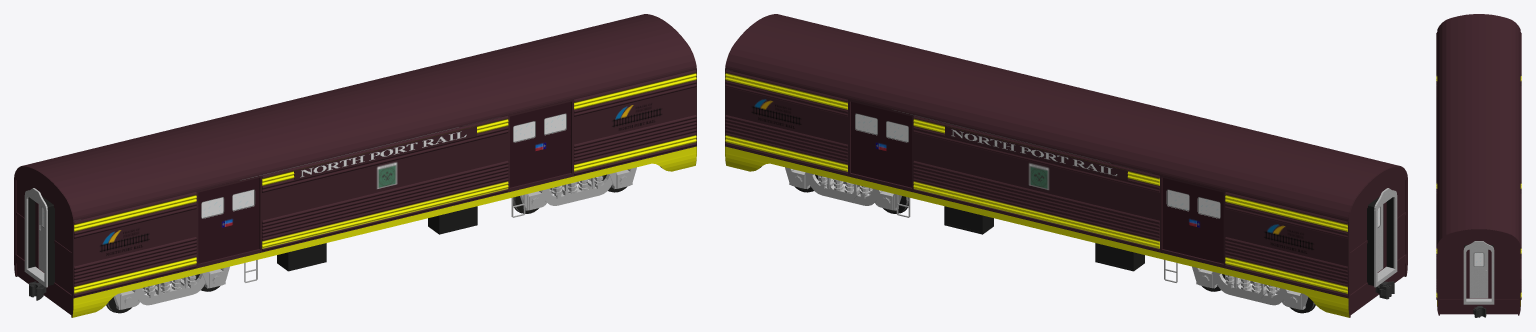
File: pullman_ss_baggage.obj
The picture shows the model from 3 angles, left to right: view 1: azimuth 30°, elevation 25°; view 2: azimuth 150°, elevation 25°; view 3: azimuth 270°, elevation 25°; orthographic projection. The views are drawn at different scales.
Visible parts, largest first — view 1: roof, fluting, FRAME_mainbody, obj1, FRAME, FRAME_frontandrear, Gangways, BOGEY_FRONT, BOGEY_REAR, FRAME_nameplate, obj2, glass; view 2: roof, fluting, FRAME_mainbody, obj1, FRAME, FRAME_frontandrear, Gangways, BOGEY_FRONT, BOGEY_REAR, FRAME_nameplate, obj2, glass; view 3: roof, FRAME_frontandrear, fluting, FRAME, FRAME_gangwaydoors, Gangways, couplers, glass.
Boxes of the visible parts, x1=… form: roof: x1=22, y1=14, x2=696, y2=220; fluting: x1=74, y1=70, x2=696, y2=297; FRAME_mainbody: x1=38, y1=69, x2=696, y2=298; obj1: x1=198, y1=102, x2=570, y2=263; FRAME: x1=14, y1=146, x2=696, y2=317; FRAME_frontandrear: x1=14, y1=14, x2=696, y2=298; Gangways: x1=24, y1=188, x2=54, y2=287; BOGEY_FRONT: x1=113, y1=266, x2=229, y2=309; BOGEY_REAR: x1=520, y1=167, x2=636, y2=210; FRAME_nameplate: x1=294, y1=126, x2=476, y2=180; obj2: x1=277, y1=206, x2=477, y2=271; glass: x1=42, y1=114, x2=565, y2=226; roof: x1=725, y1=14, x2=1399, y2=220; fluting: x1=725, y1=70, x2=1347, y2=297; FRAME_mainbody: x1=725, y1=69, x2=1383, y2=298; obj1: x1=851, y1=102, x2=1223, y2=263; FRAME: x1=725, y1=146, x2=1407, y2=317; FRAME_frontandrear: x1=725, y1=14, x2=1407, y2=298; Gangways: x1=1367, y1=188, x2=1397, y2=287; BOGEY_FRONT: x1=1192, y1=266, x2=1308, y2=309; BOGEY_REAR: x1=785, y1=167, x2=901, y2=210; FRAME_nameplate: x1=945, y1=126, x2=1127, y2=180; obj2: x1=944, y1=206, x2=1144, y2=271; glass: x1=856, y1=114, x2=1379, y2=226; roof: x1=1437, y1=14, x2=1520, y2=243; FRAME_frontandrear: x1=1437, y1=14, x2=1520, y2=301; fluting: x1=1436, y1=32, x2=1521, y2=299; FRAME: x1=1437, y1=300, x2=1520, y2=315; FRAME_gangwaydoors: x1=1469, y1=249, x2=1488, y2=298; Gangways: x1=1463, y1=241, x2=1494, y2=304; couplers: x1=1473, y1=306, x2=1486, y2=317; glass: x1=1474, y1=253, x2=1483, y2=266.
Size of the model in its own units: 19.9 by 4.2 by 3.2.
Materials: 3 (3 with a texture image).
